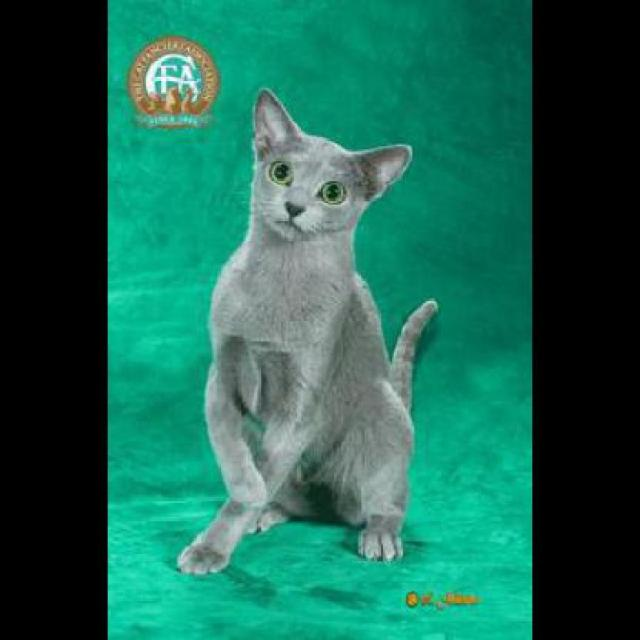unauthorized: (174, 87, 438, 576)
